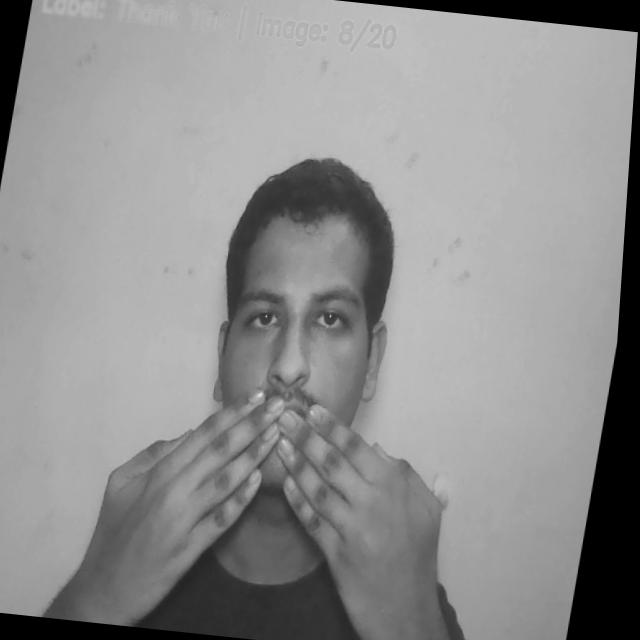Thank You: (95, 372, 448, 600)
